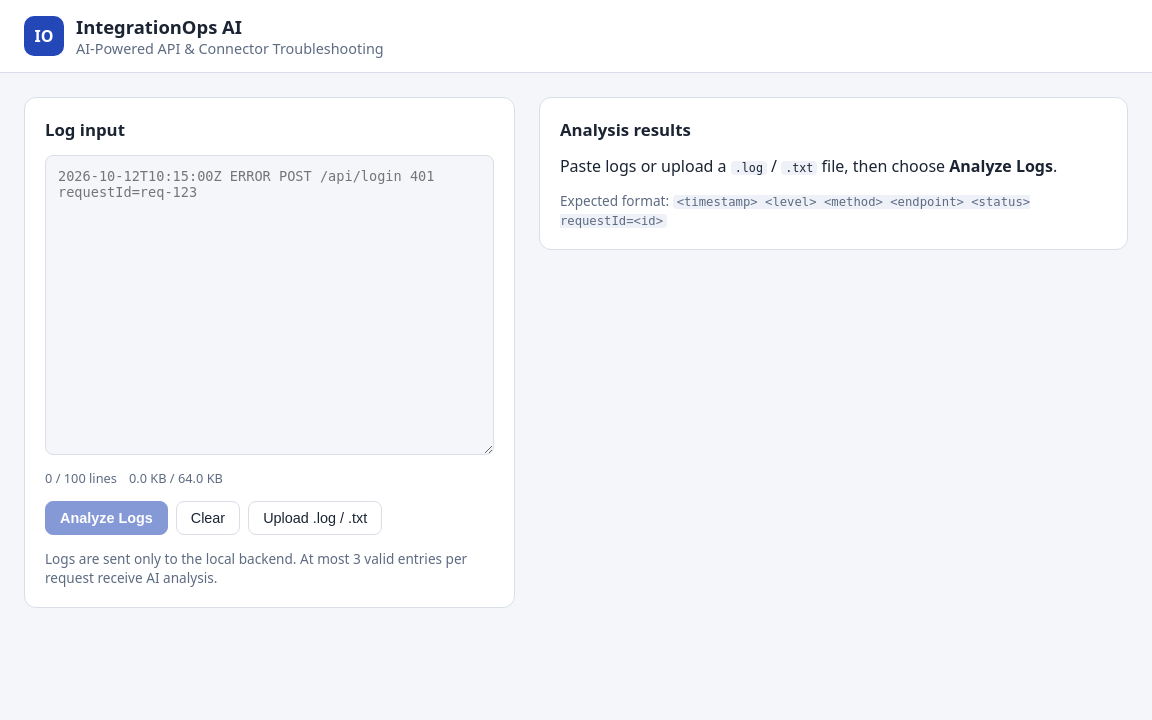
Test: App › renders a successful analysis
Click the text box named "log lines" at (269, 305), box [45, 155, 494, 455]
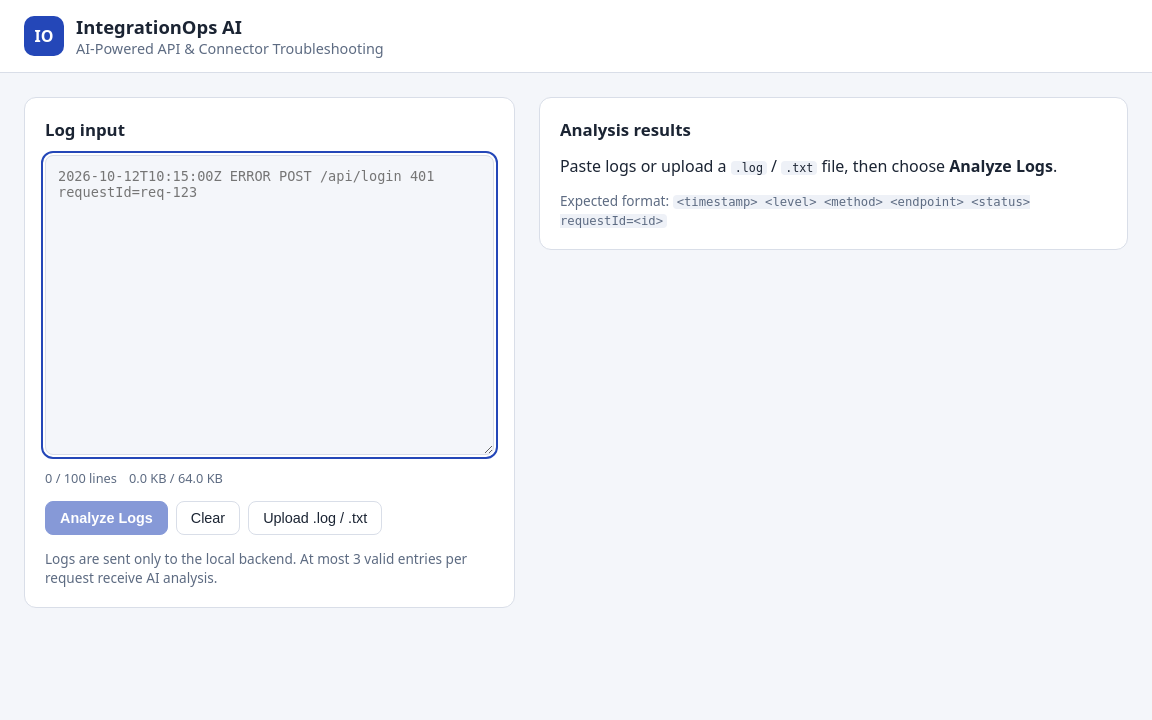
Type keys "2026-10-12T10:15:00Z ERROR POST /api/login 401 requestId=req-123"
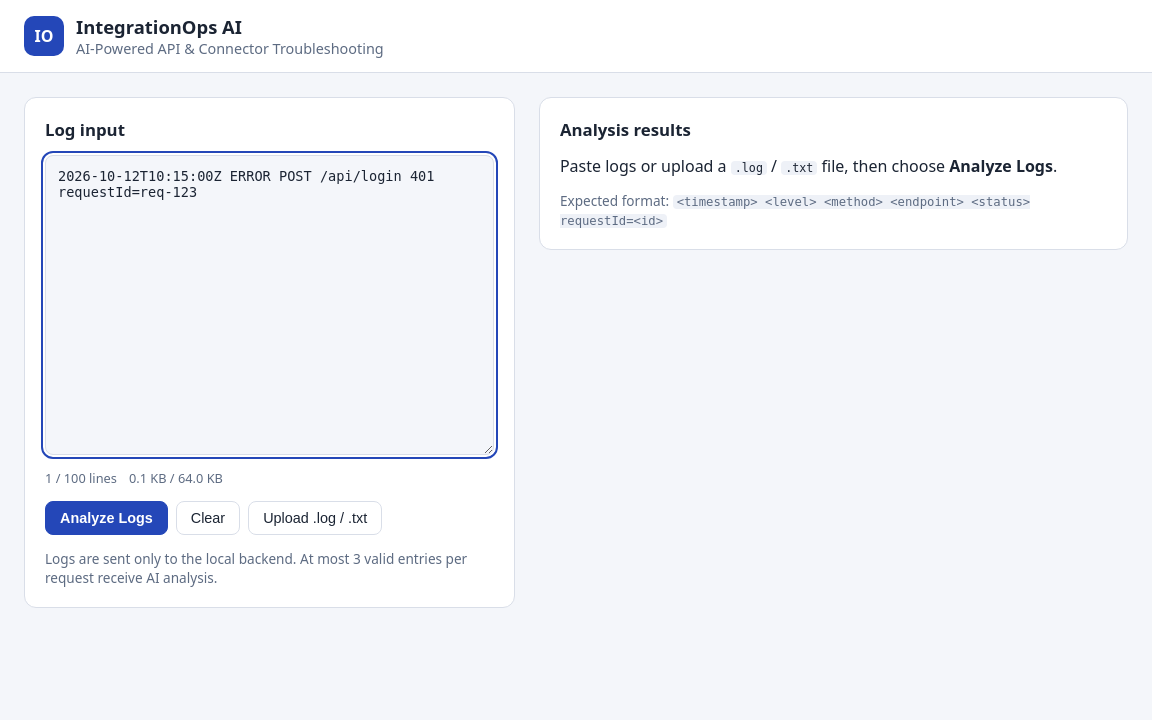
Click the button "Analyze Logs" at (106, 518), box [45, 501, 168, 535]
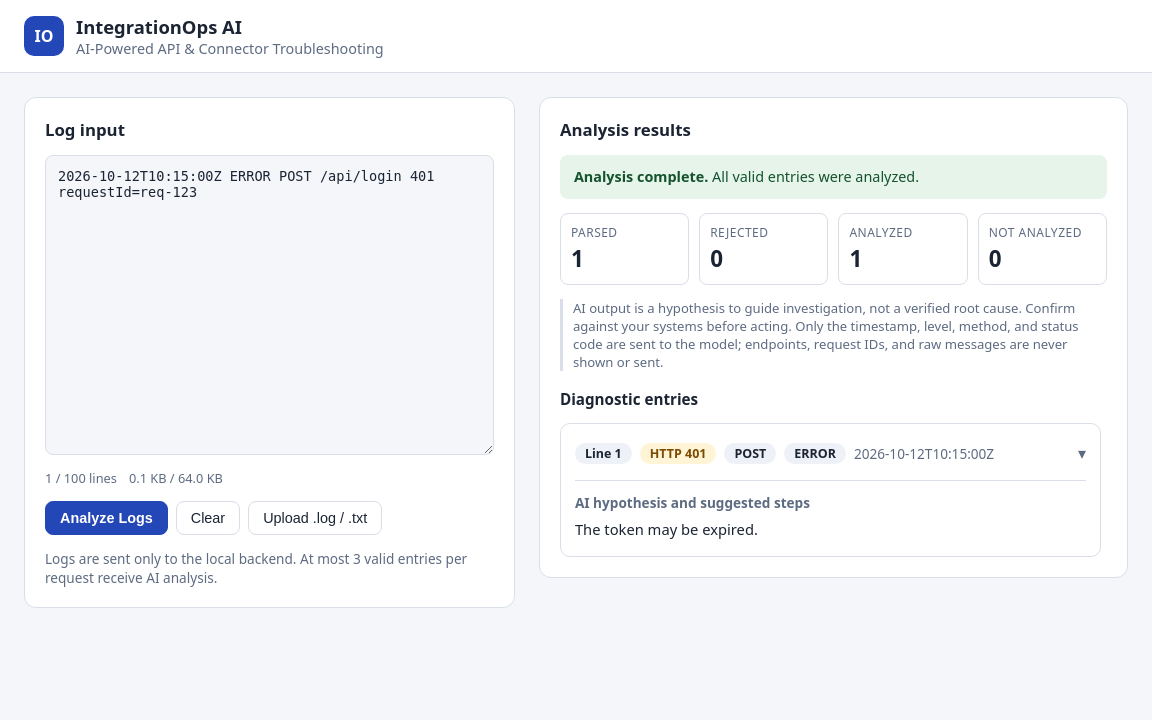
Check: the text "Analysis complete." is shown, box [574, 167, 708, 186]
Check: the text "HTTP 401" is shown, box [640, 443, 716, 464]
Check: the text "Line 1" is shown, box [575, 443, 632, 464]
